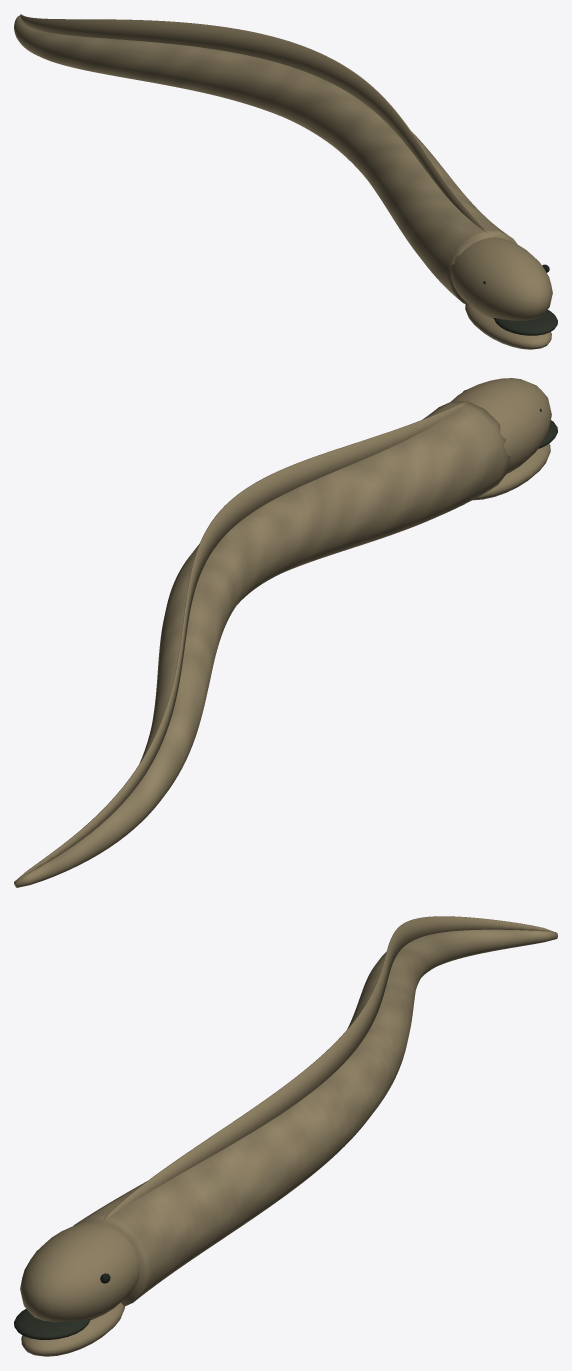
The model's file is moray.glb.
3 views of the same model, one above another, from view 1: azimuth 30°, elevation 25°; view 2: azimuth 150°, elevation 25°; view 3: azimuth 330°, elevation 25° (orthographic). The views are drawn at different scales.
Visible parts, largest first — view 1: moray / tapered continuous body, moray / continuous dorsal fin, moray / upper head, moray / lower jaw, moray / open mouth; view 2: moray / tapered continuous body, moray / continuous dorsal fin, moray / upper head, moray / lower jaw; view 3: moray / tapered continuous body, moray / upper head, moray / continuous dorsal fin, moray / lower jaw, moray / open mouth.
Part boxes in pixels (x1,y1,x2,y2): moray / tapered continuous body: (14,15,517,304); moray / continuous dorsal fin: (20,14,488,233); moray / upper head: (451,237,552,320); moray / lower jaw: (465,304,551,349); moray / open mouth: (493,309,557,335); moray / tapered continuous body: (14,401,510,887); moray / continuous dorsal fin: (15,401,467,881); moray / upper head: (451,378,551,473); moray / lower jaw: (473,444,550,500); moray / tapered continuous body: (73,929,557,1306); moray / upper head: (20,1222,139,1322); moray / continuous dorsal fin: (103,916,556,1219); moray / lower jaw: (21,1302,124,1356); moray / open mouth: (14,1309,90,1339).
Bounding box in the file's own units: 0.2966 × 0.2295 × 1.65.
